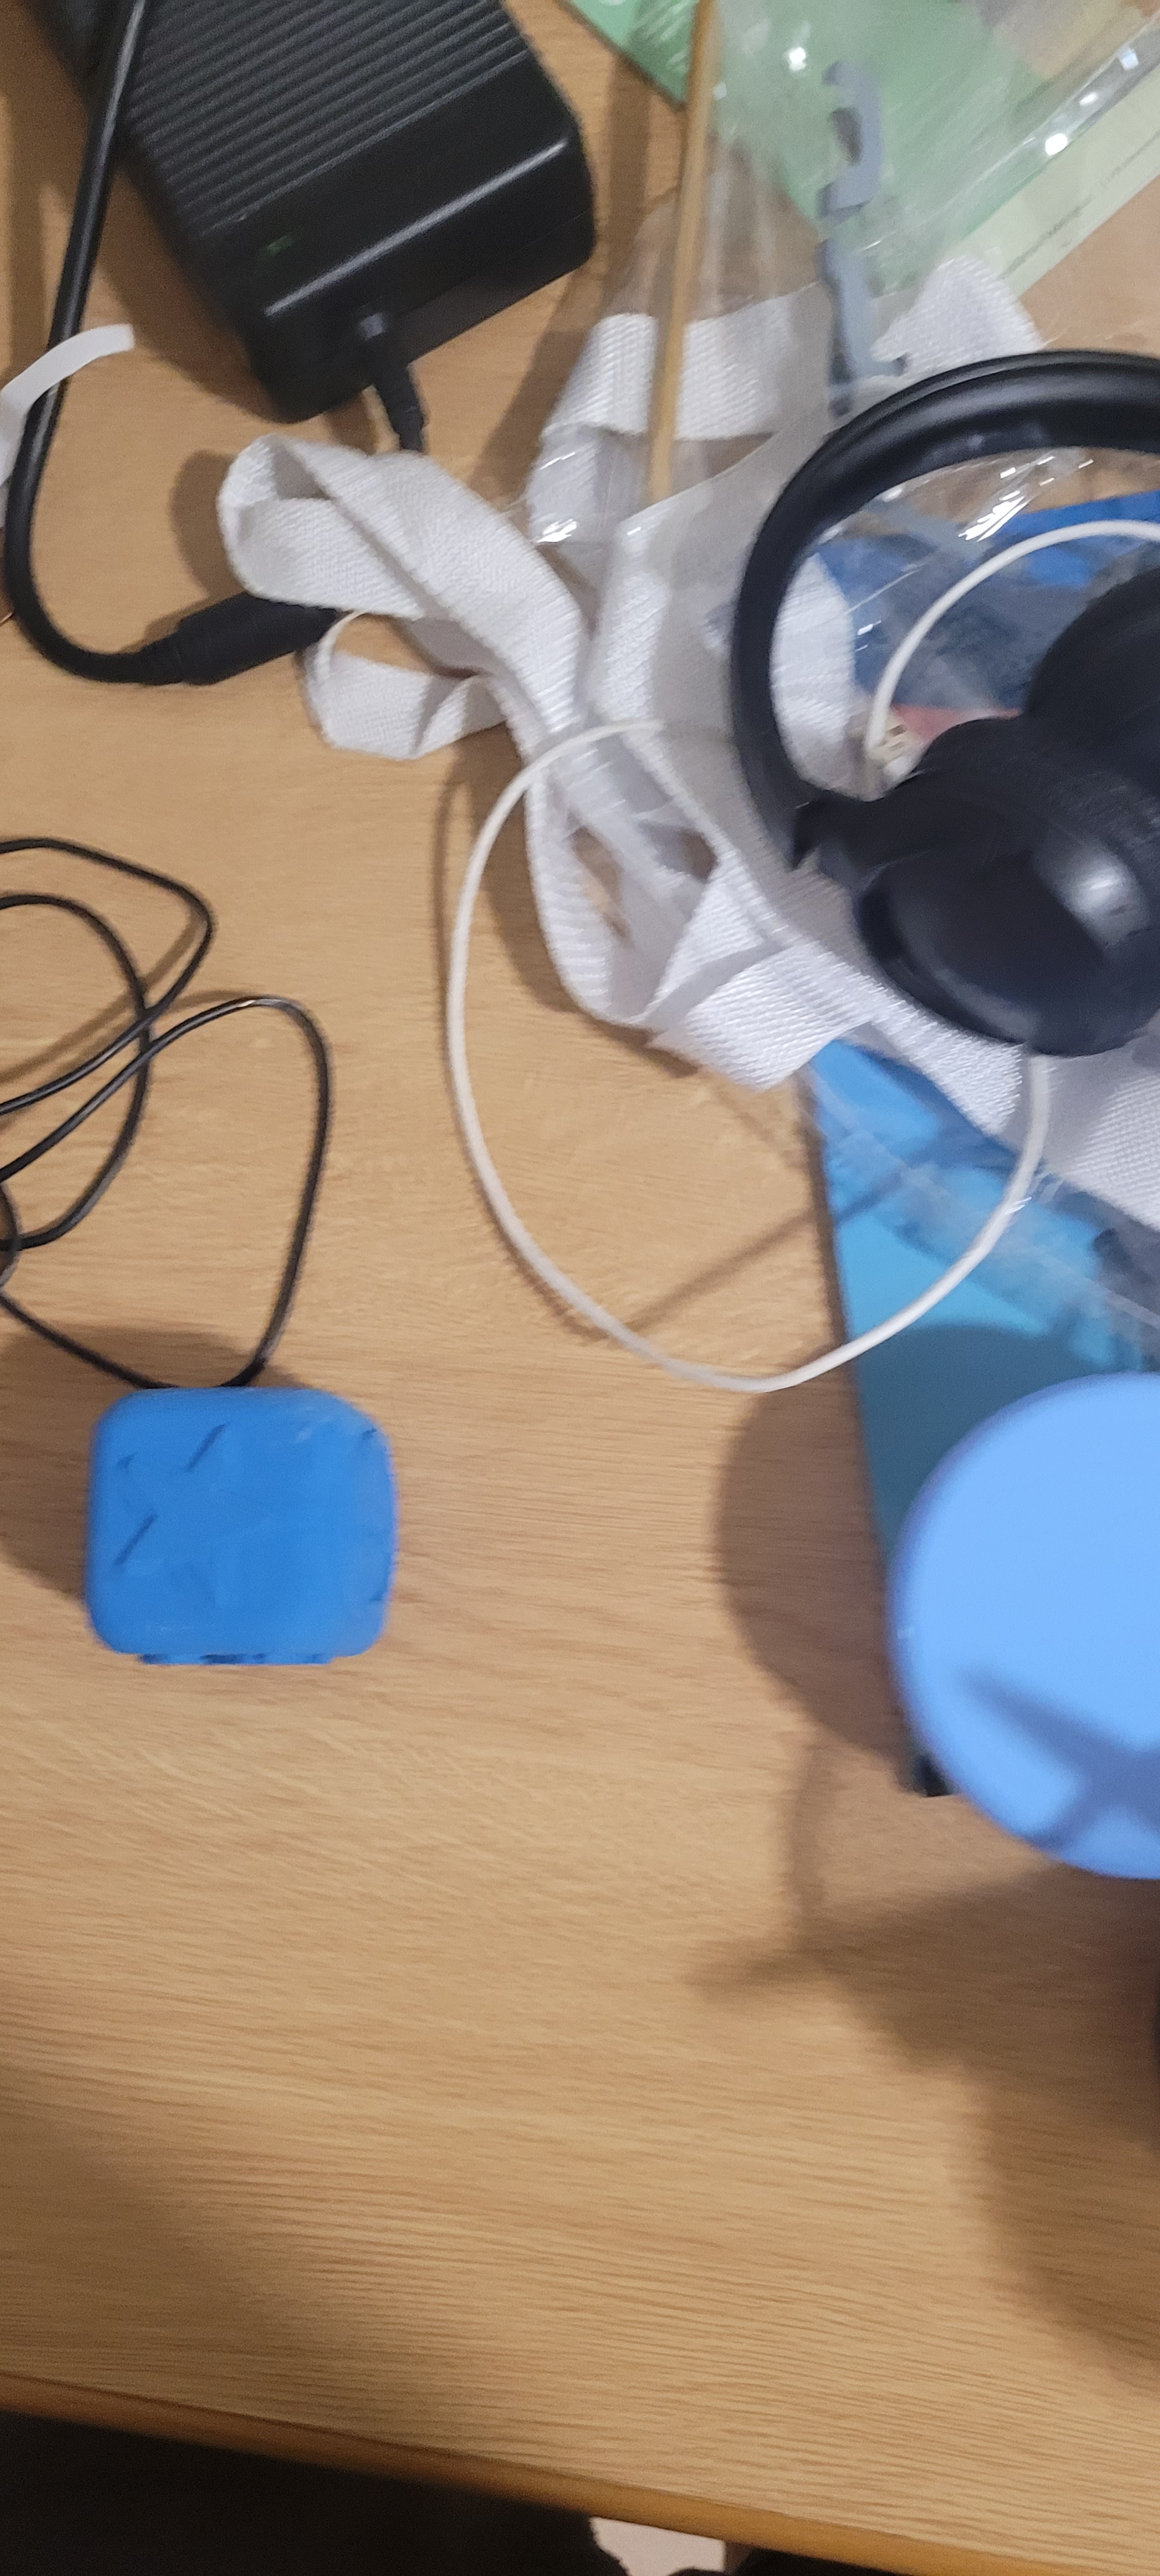Star: (112, 1418, 330, 1630)
